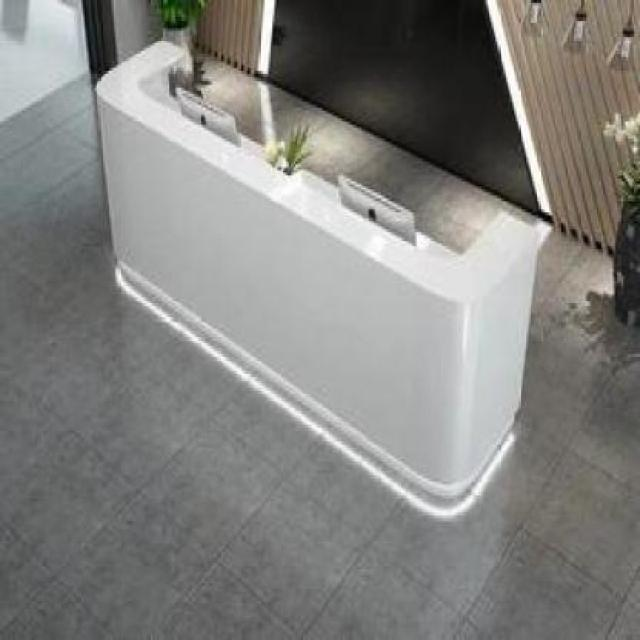frontdesk: (94, 31, 540, 519)
